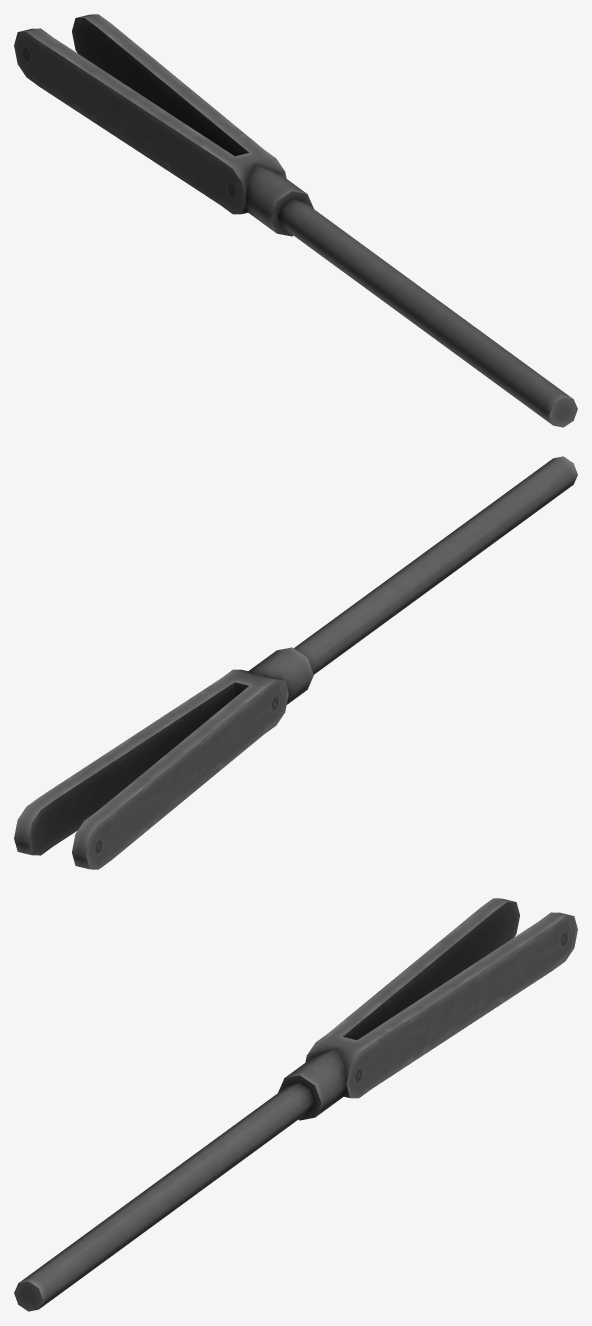
File: vela_landing_leg_srf_1_suspend_upper_down.obj
The picture shows the model from 3 angles, top to bottom: view 1: azimuth 30°, elevation 25°; view 2: azimuth 150°, elevation 25°; view 3: azimuth 330°, elevation 25°; orthographic projection.
Visible parts, largest first — view 1: suspend_upper_down; view 2: suspend_upper_down; view 3: suspend_upper_down.
Part boxes in pixels (box(x1,y1,x2,y2)): suspend_upper_down: box(14, 14, 577, 427); suspend_upper_down: box(14, 456, 577, 869); suspend_upper_down: box(14, 898, 577, 1311).
Size of the model in its own units: 0.125 by 0.075 by 1.54.
